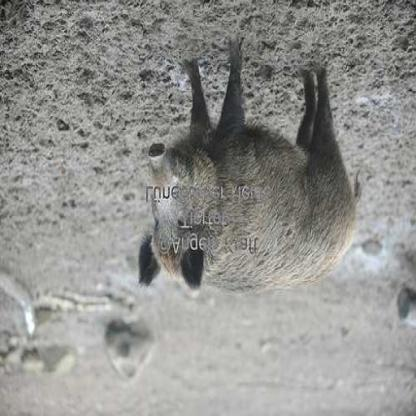boar: (107, 57, 407, 325)
